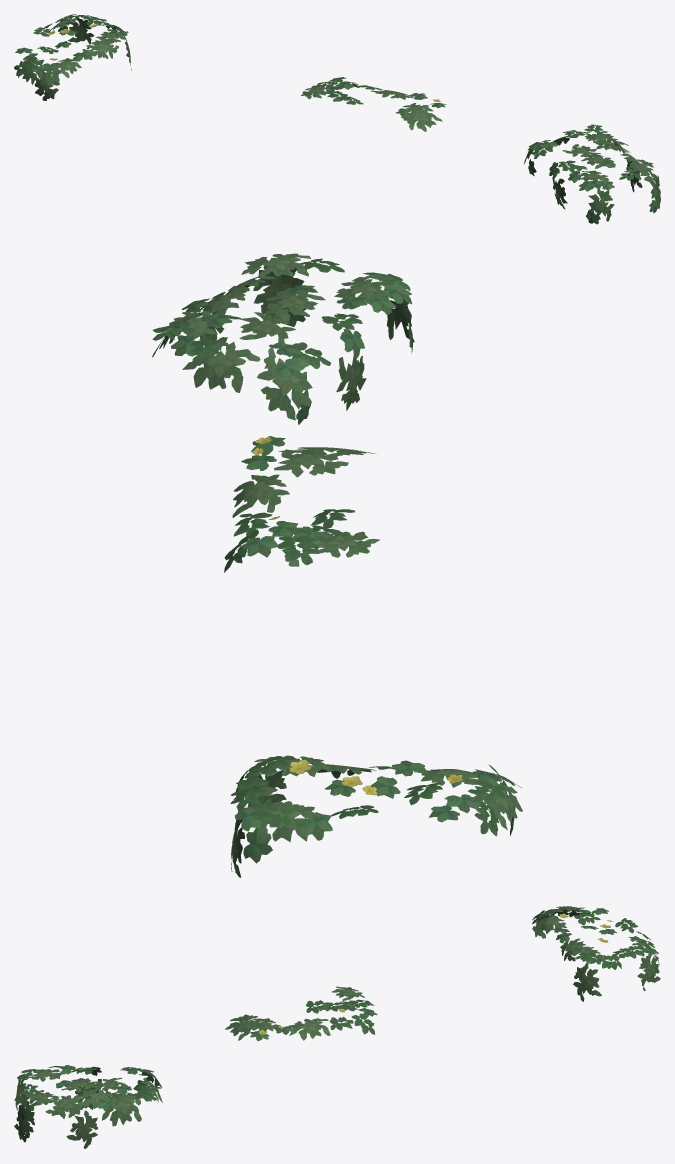
File: pref_sm_beach_bk_pointmol_grassplant06b_lv1.fbx
3 renders of one model, top to bottom at view 1: azimuth 30°, elevation 25°; view 2: azimuth 150°, elevation 25°; view 3: azimuth 270°, elevation 25°, orthographic. The views are drawn at different scales.
Visible parts, largest first — view 1: pref_sm_beach_bk_pointmol_grassplant06b_lv1; view 2: pref_sm_beach_bk_pointmol_grassplant06b_lv1; view 3: pref_sm_beach_bk_pointmol_grassplant06b_lv1.
Part boxes in pixels (x1,y1,x2,y2): pref_sm_beach_bk_pointmol_grassplant06b_lv1: (14,14,660,224); pref_sm_beach_bk_pointmol_grassplant06b_lv1: (152,253,522,877); pref_sm_beach_bk_pointmol_grassplant06b_lv1: (14,906,660,1148).
Size of the model in its own units: 12.72 by 1.9 by 17.54.
